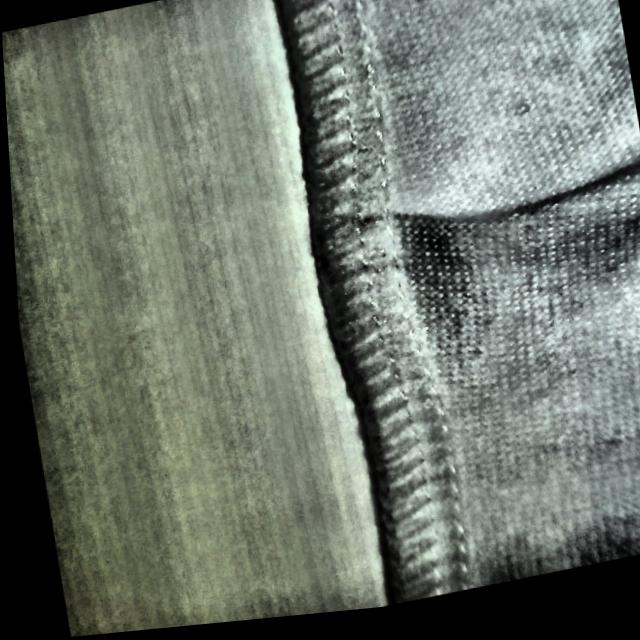seam: (297, 141, 599, 336)
